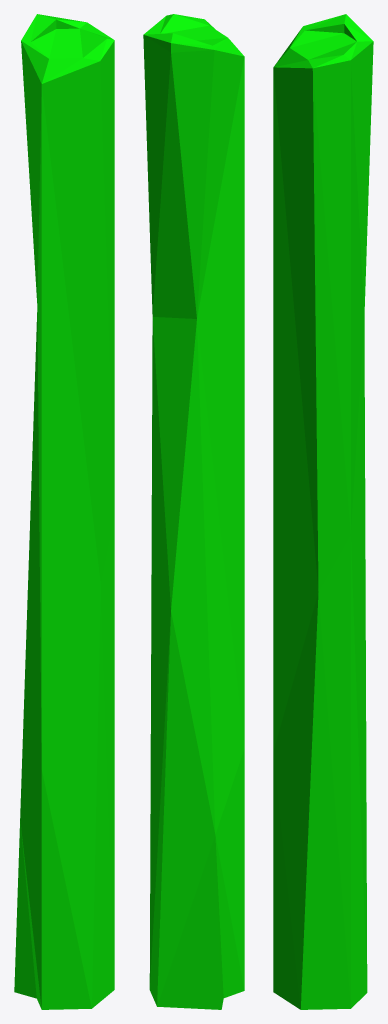
The model's file is SM_Fence_Stick_Weave_Pillar.fbx.
The picture shows the model from 3 angles, left to right: view 1: azimuth 30°, elevation 25°; view 2: azimuth 150°, elevation 25°; view 3: azimuth 330°, elevation 25°; orthographic projection.
Parts seen in each view (by area): view 1: fence-stick-weave-pillar; view 2: fence-stick-weave-pillar; view 3: fence-stick-weave-pillar.
Boxes of the visible parts, <box> form: fence-stick-weave-pillar: <box>14,14,114,1009</box>; fence-stick-weave-pillar: <box>143,14,244,1009</box>; fence-stick-weave-pillar: <box>273,14,373,1009</box>.
Size of the model in its own units: 0.1158 by 1.37 by 0.1297.
